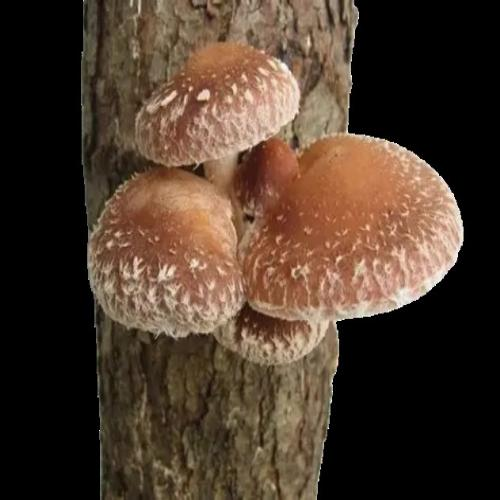Shiitake Mushroom: (221, 115, 476, 336), (118, 10, 317, 214), (76, 157, 249, 348)
